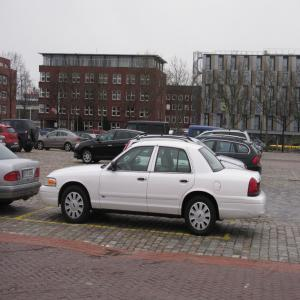Vehicle-registration-plate: (23, 169, 36, 177)
